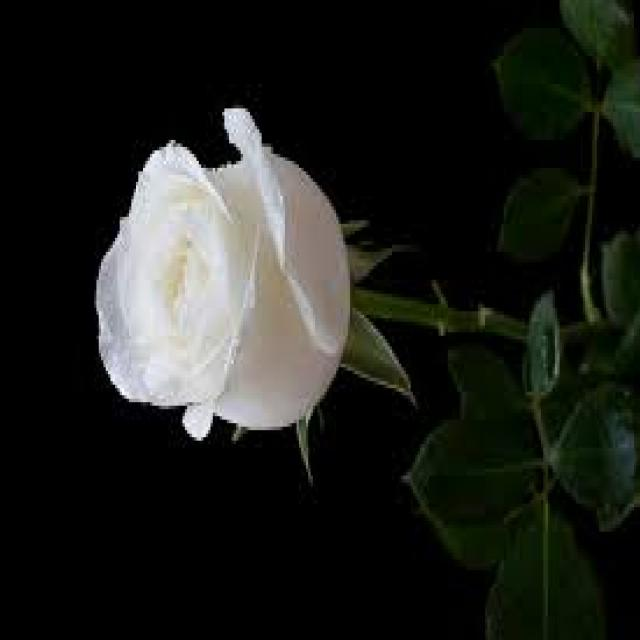rose: (78, 73, 366, 520)
